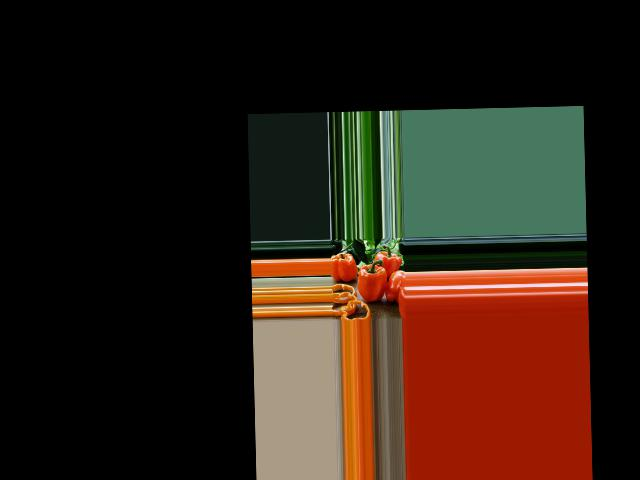bell_pepper: (385, 269, 405, 304)
